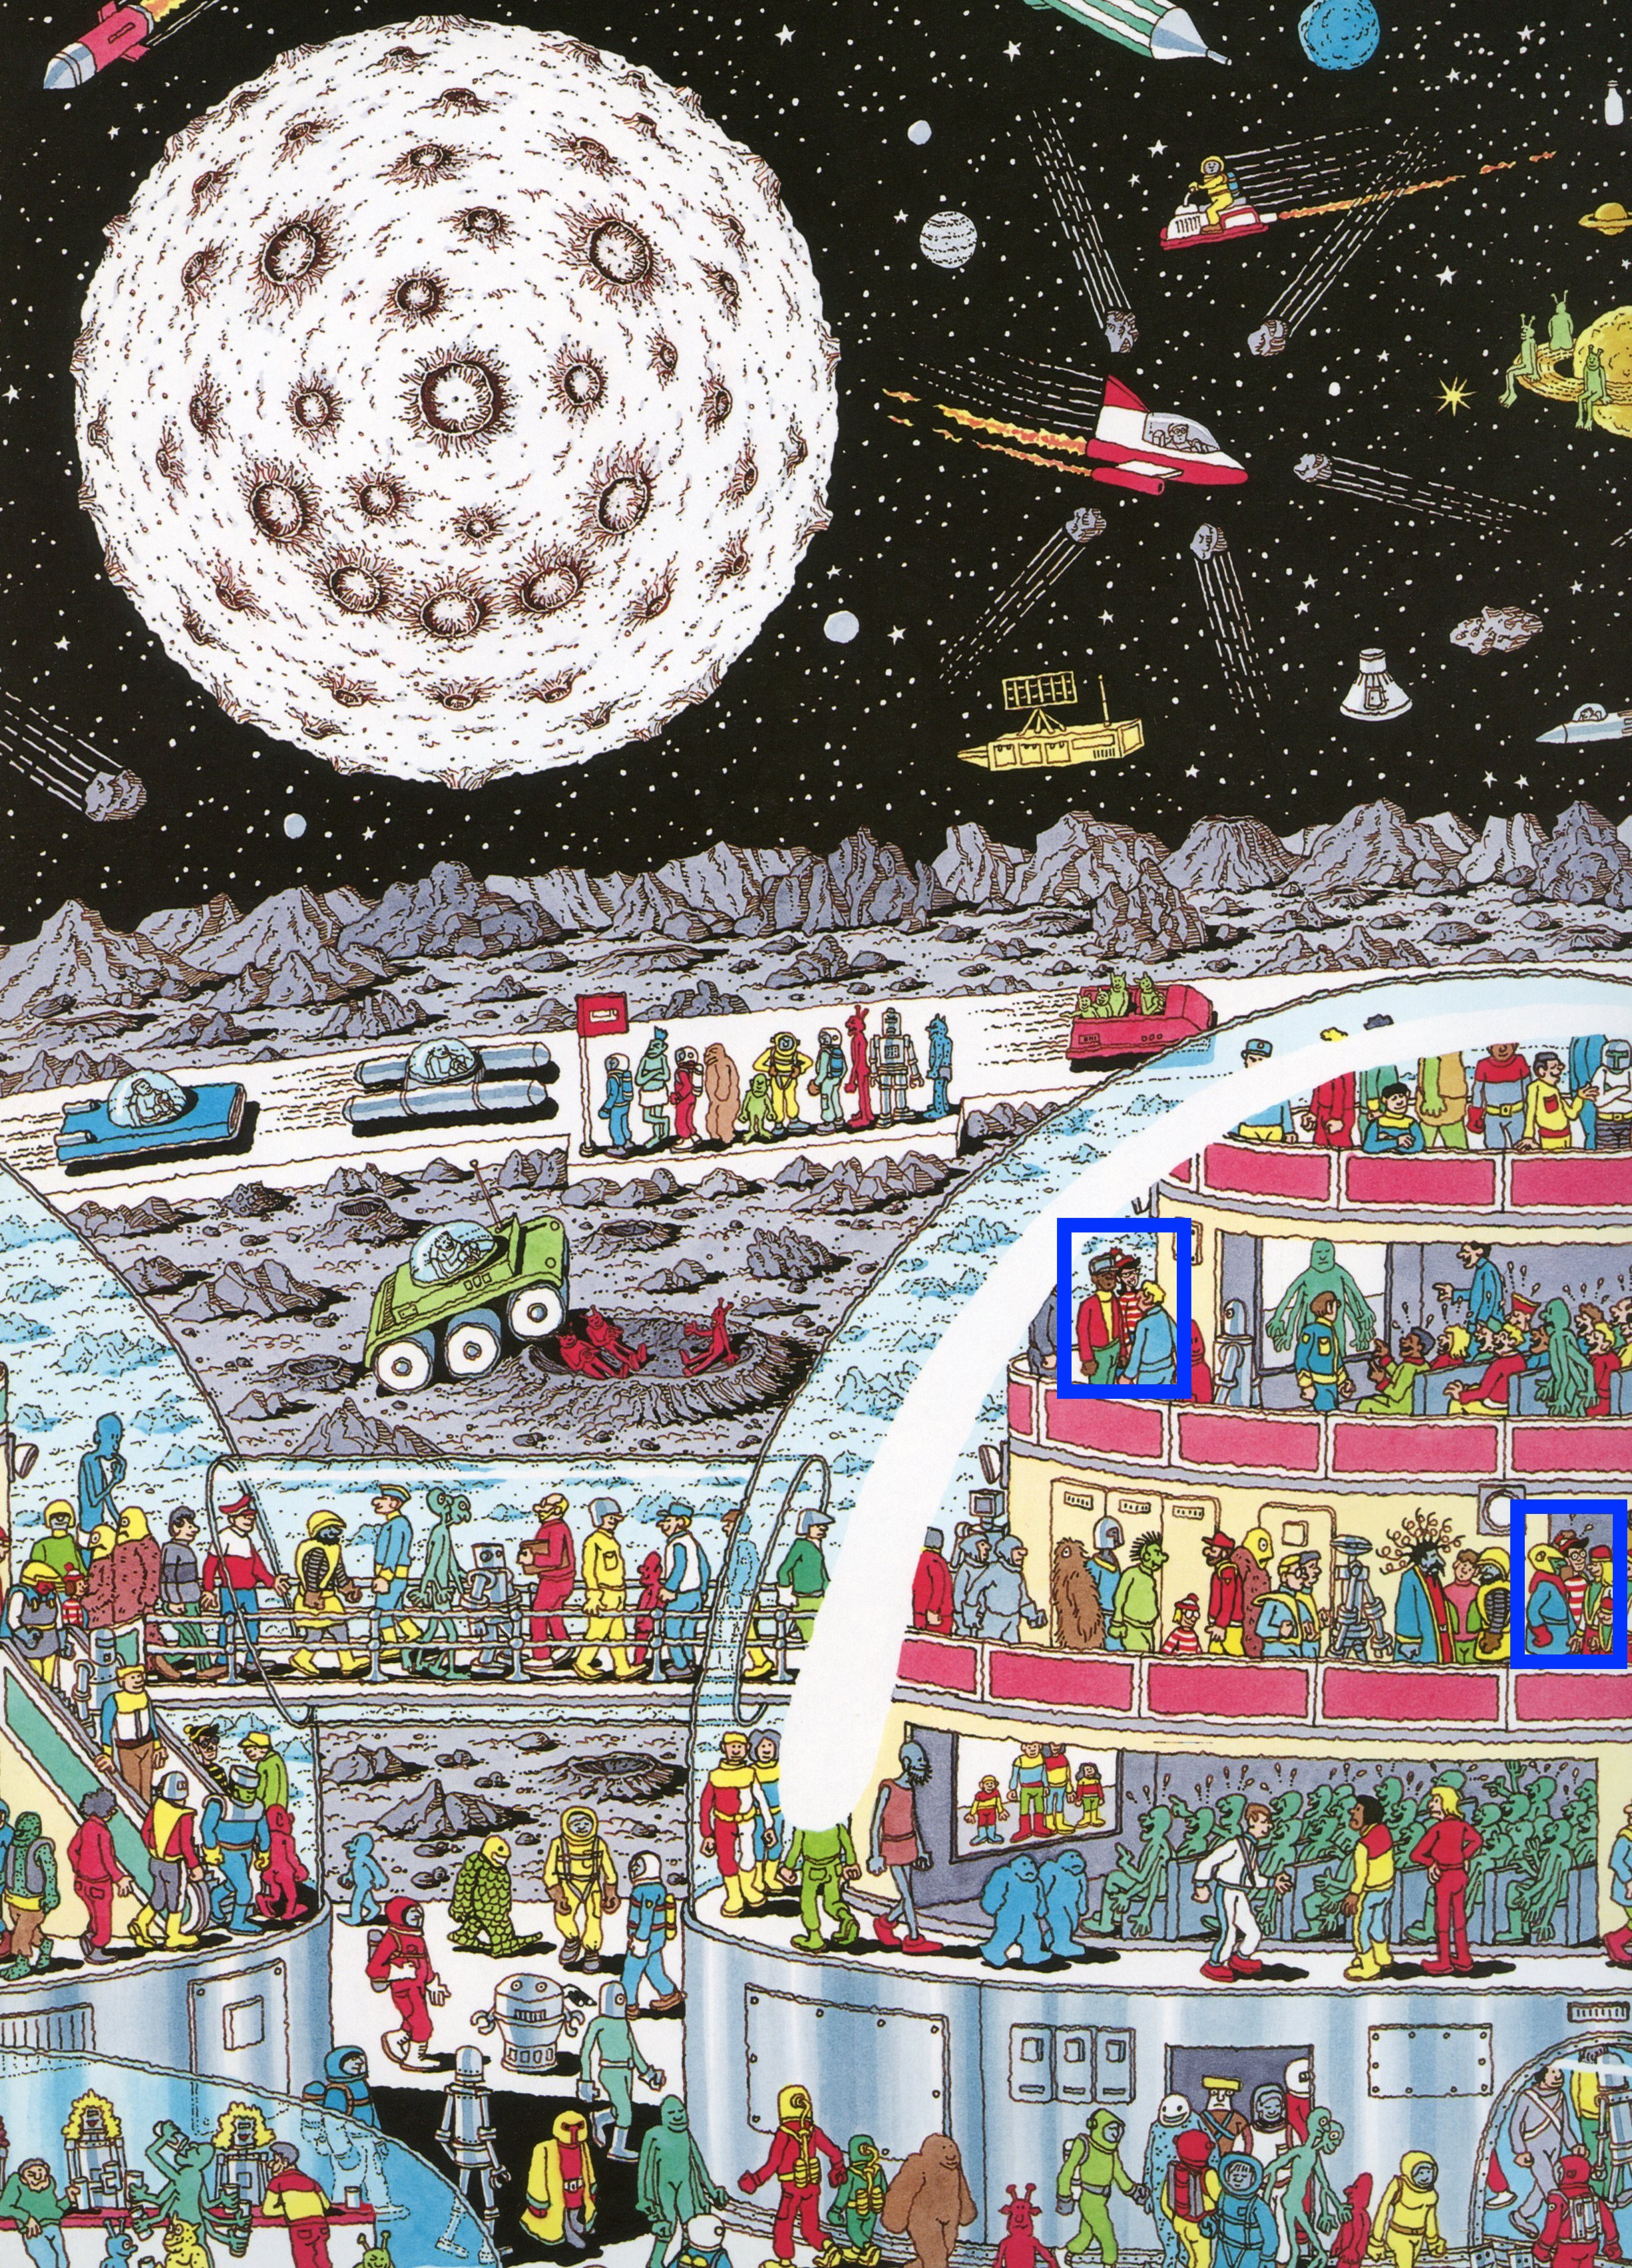waldo: (1528, 1497, 1627, 1708)
